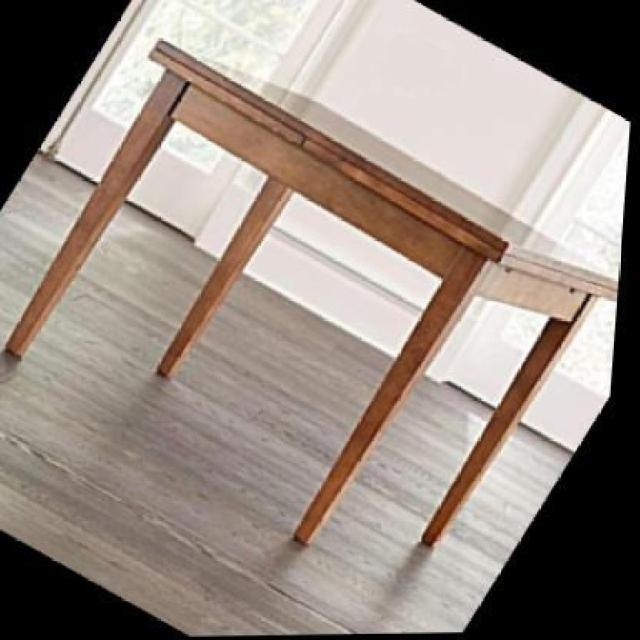tables: (0, 37, 620, 548)
